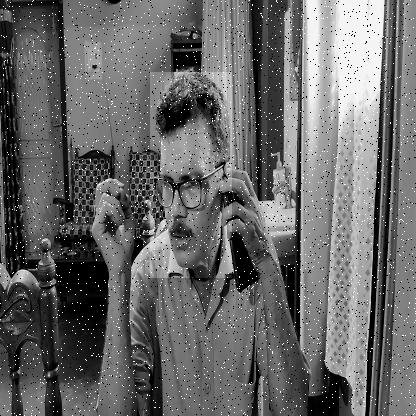Distracted: (150, 72, 232, 278)
